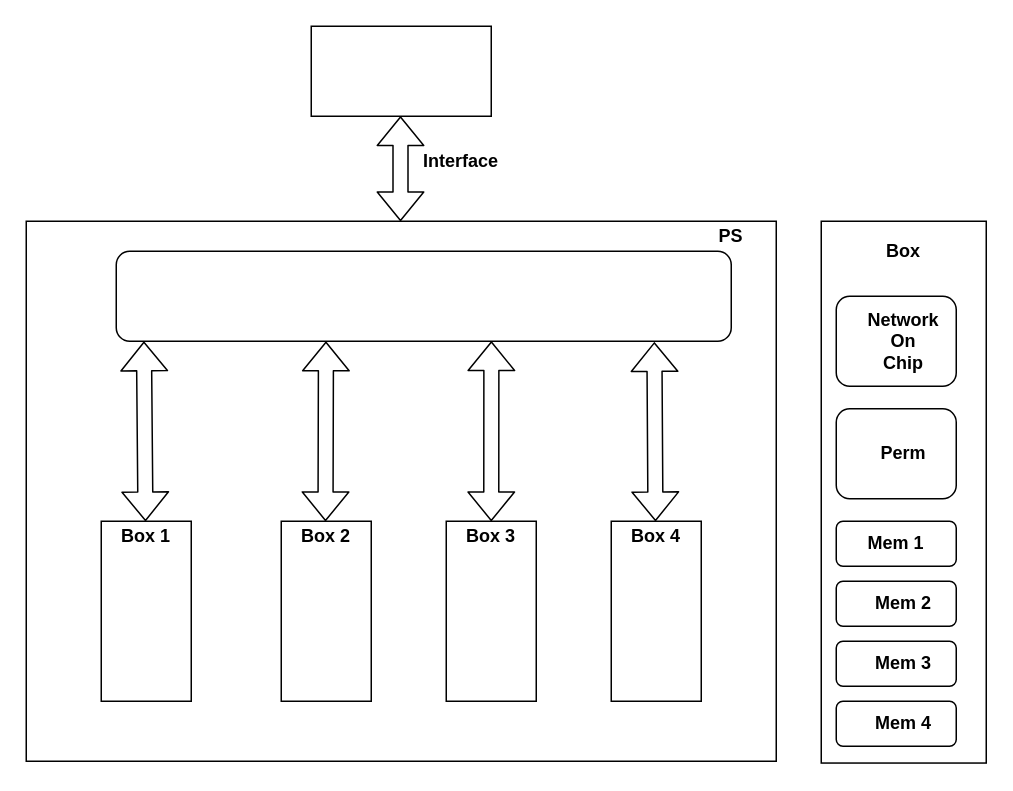
Image size: 1013x791. Some labels were removed from this diagram. Here are the shapes that lost their labels. From the top down, the centre of each, then its label:
At pixel 400 70: "Testbench".
At pixel 423 295: "Switch".
